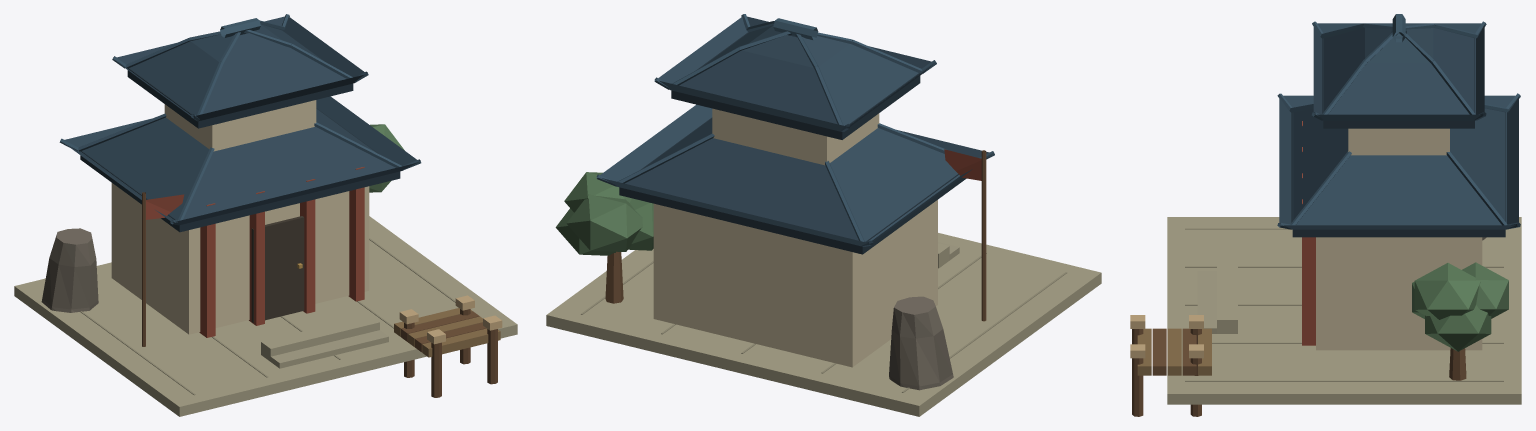
3 renders of one model, left to right at view 1: azimuth 30°, elevation 25°; view 2: azimuth 150°, elevation 25°; view 3: azimuth 270°, elevation 25°, orthographic. The views are drawn at different scales.
Visible parts, largest first — view 1: S40_泉州 · 海风古庙; view 2: S40_泉州 · 海风古庙; view 3: S40_泉州 · 海风古庙.
Boxes of the visible parts, x1,y1,x2,y2 form: S40_泉州 · 海风古庙: (14,14,517,416); S40_泉州 · 海风古庙: (546,14,1101,416); S40_泉州 · 海风古庙: (1130,14,1521,416).
Size of the model in its own units: 4.04 by 3.32 by 3.64.
